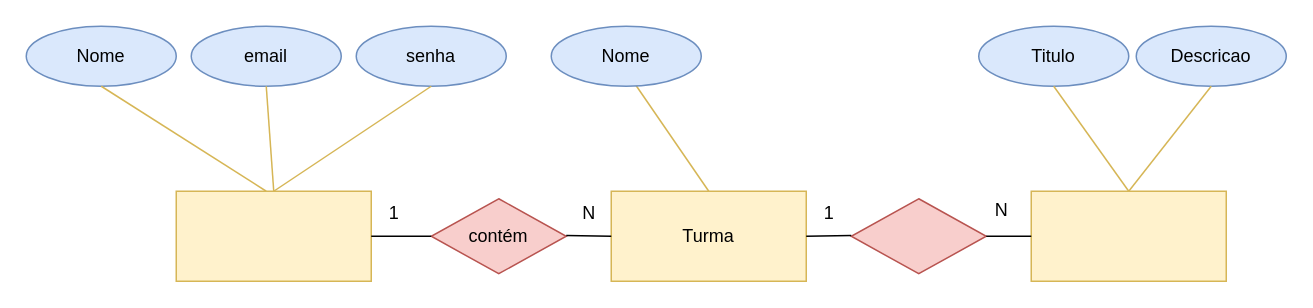
Some shapes in this 1313 by 308 pixel diagram are drawn without their labels. Each missing label, with the centre of its shape:
"Atividade" belongs at (1128,235).
"possui" belongs at (918,235).
"Professor" belongs at (273,235).
